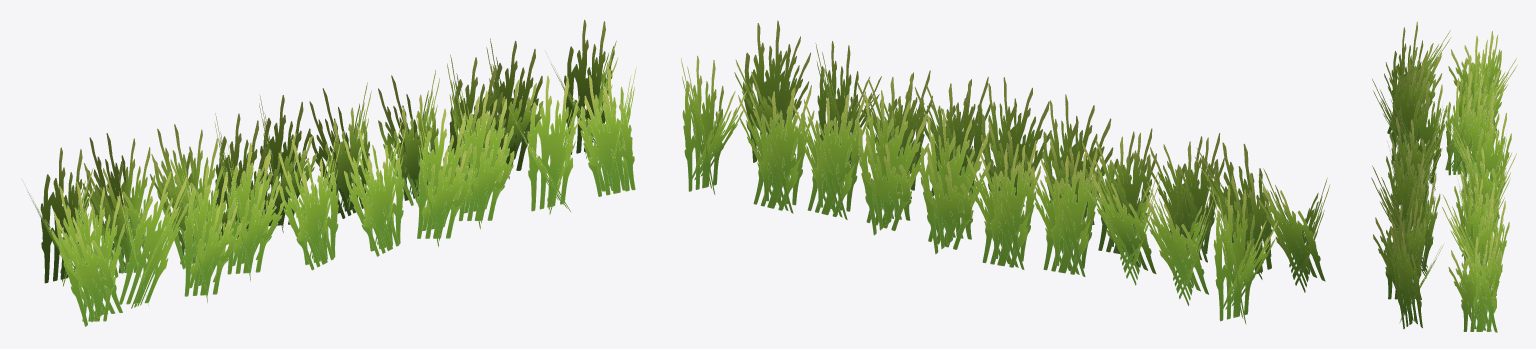
The model's file is SM_Rice_01.fbx.
3 views of the same model, side by side, from view 1: azimuth 30°, elevation 25°; view 2: azimuth 150°, elevation 25°; view 3: azimuth 270°, elevation 25° (orthographic). The views are drawn at different scales.
Parts seen in each view (by area): view 1: SM_Rice_Test_02_LOD0; view 2: SM_Rice_Test_02_LOD0; view 3: SM_Rice_Test_02_LOD0.
Boxes of the visible parts, x1=… form: SM_Rice_Test_02_LOD0: x1=21, y1=19, x2=636, y2=326; SM_Rice_Test_02_LOD0: x1=681, y1=20, x2=1330, y2=324; SM_Rice_Test_02_LOD0: x1=1371, y1=21, x2=1517, y2=332.
Size of what is drawn, in the model's own units: 2.48 by 0.5292 by 0.6921.
